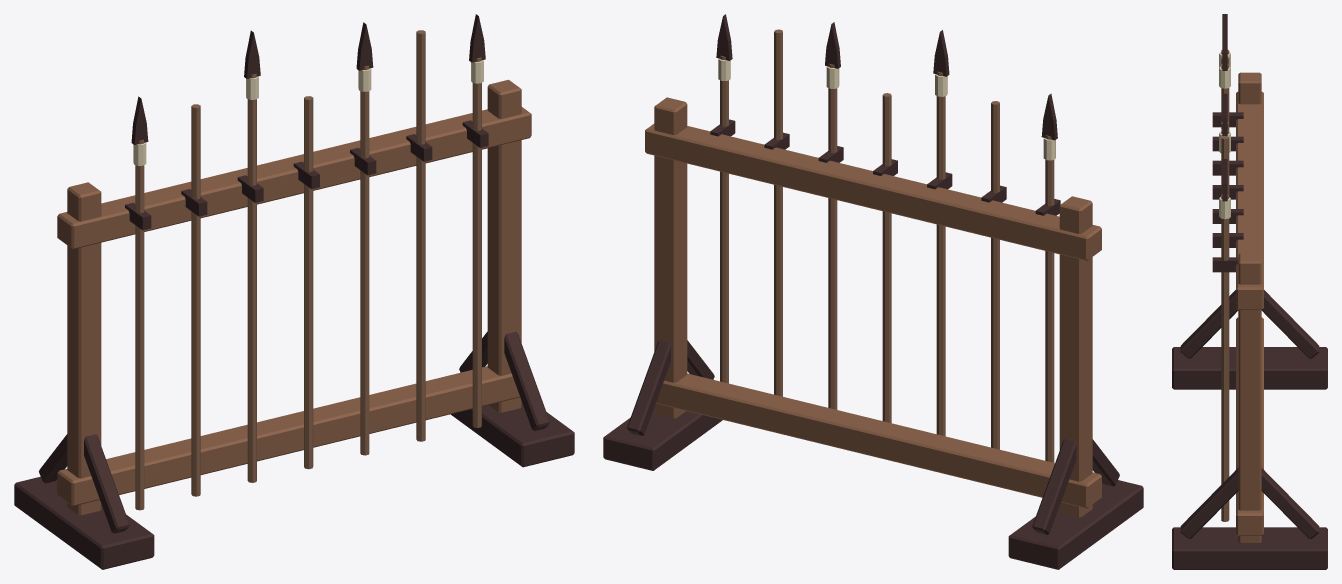
The model's file is staff_rack.glb.
3 views of the same model, side by side, from view 1: azimuth 30°, elevation 25°; view 2: azimuth 150°, elevation 25°; view 3: azimuth 270°, elevation 25° (orthographic). The views are drawn at different scales.
Parts seen in each view (by area): view 1: staff_rack_Cedar, staff_rack_Floor, staff_rack_Timber, staff_rack_Plaster; view 2: staff_rack_Cedar, staff_rack_Floor, staff_rack_Timber, staff_rack_Plaster; view 3: staff_rack_Timber, staff_rack_Cedar, staff_rack_Floor, staff_rack_Plaster.
Boxes of the visible parts, bbox=[...] form: staff_rack_Cedar: bbox=[57, 79, 531, 515]; staff_rack_Floor: bbox=[135, 30, 481, 510]; staff_rack_Timber: bbox=[14, 14, 574, 569]; staff_rack_Plaster: bbox=[133, 60, 483, 165]; staff_rack_Cedar: bbox=[645, 97, 1101, 517]; staff_rack_Floor: bbox=[720, 29, 1054, 462]; staff_rack_Timber: bbox=[603, 14, 1143, 569]; staff_rack_Plaster: bbox=[718, 58, 1055, 160]; staff_rack_Timber: bbox=[1172, 14, 1327, 569]; staff_rack_Cedar: bbox=[1236, 72, 1263, 542]; staff_rack_Floor: bbox=[1221, 49, 1229, 521]; staff_rack_Plaster: bbox=[1219, 52, 1230, 219].
Bounding box in the file's own units: 3.09 × 2.95 × 1.
